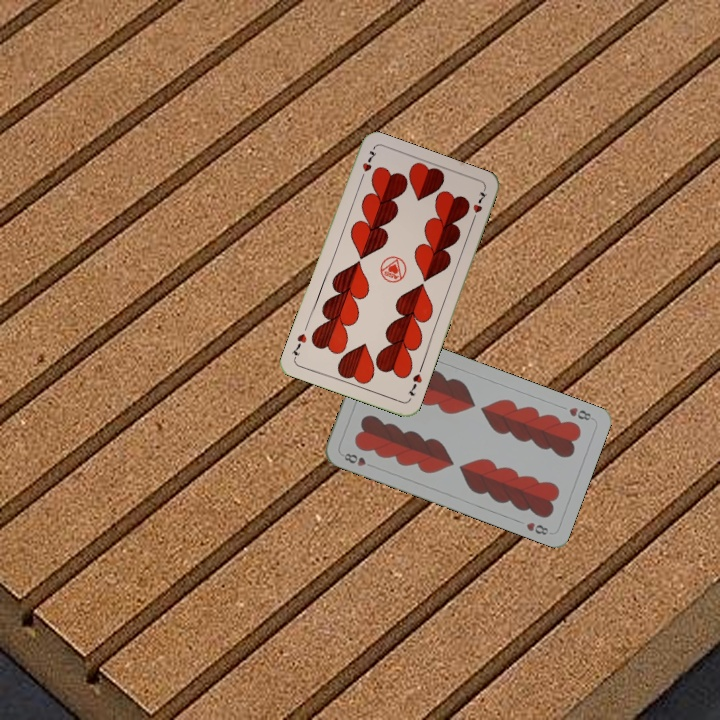H7: (356, 147, 379, 184), (403, 363, 425, 399)
H8: (565, 403, 596, 423), (338, 449, 368, 469)
